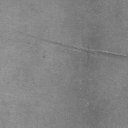finishing roll printing: (30, 34, 128, 58)
